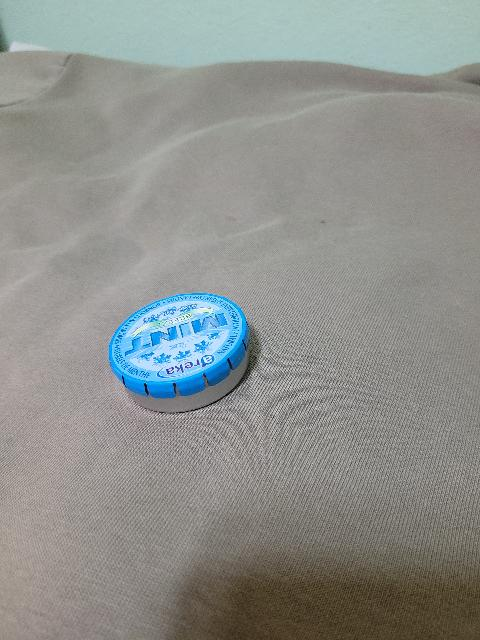Metal: (110, 294, 253, 411)
